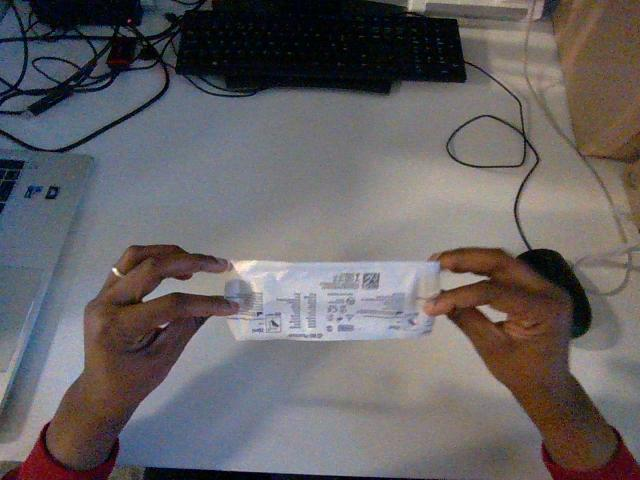syringe: (225, 261, 439, 340)
